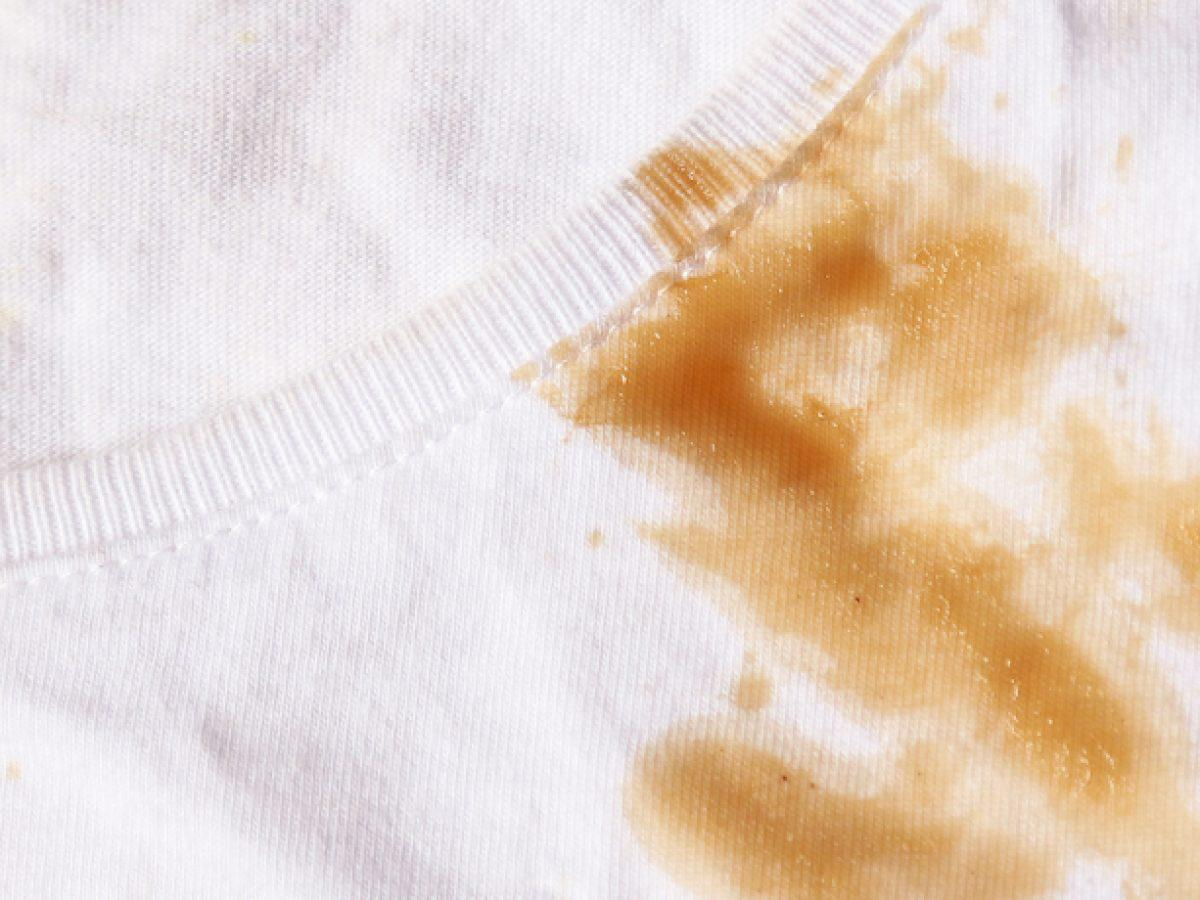gun: (635, 129, 1193, 899)
